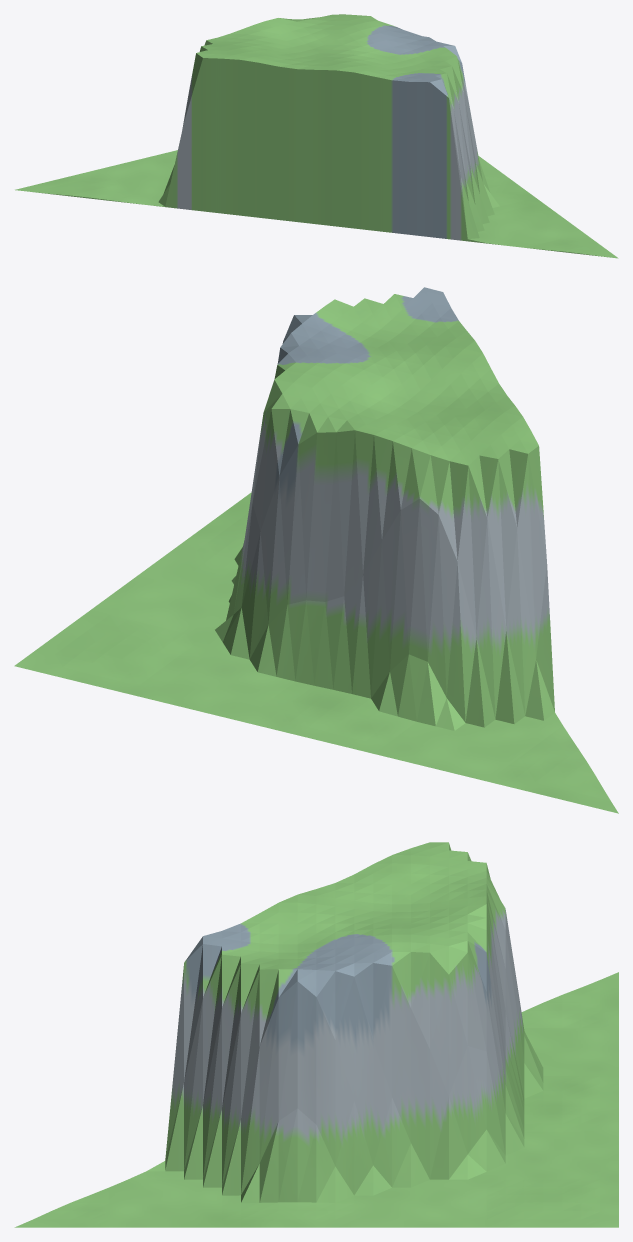
The model's file is Grass_RockyMountains_08_SE.obj.
3 views of the same model, one above another, from view 1: azimuth 30°, elevation 25°; view 2: azimuth 150°, elevation 25°; view 3: azimuth 270°, elevation 25° (orthographic). The views are drawn at different scales.
Size of the model in its own units: 10 by 3.89 by 10.
1 material, 1 textured.
